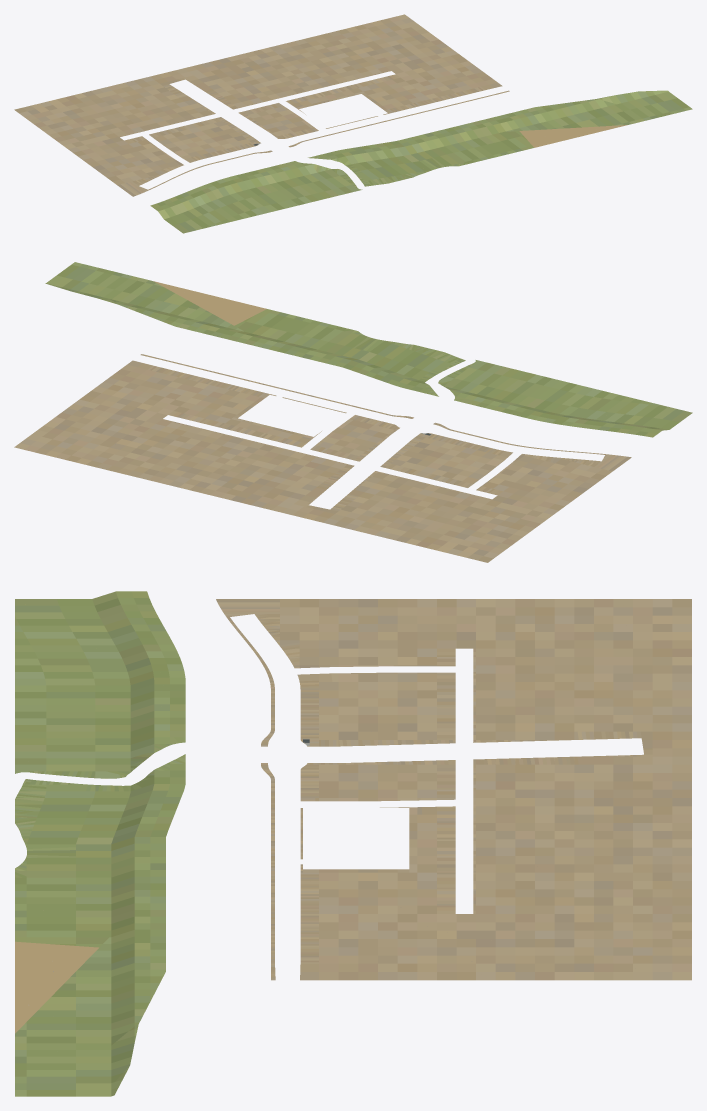
The model's file is ART_KyobashiLand.lod.glb.
3 renders of one model, top to bottom at view 1: azimuth 30°, elevation 25°; view 2: azimuth 150°, elevation 25°; view 3: azimuth 270°, elevation 25°, orthographic. The views are drawn at different scales.
Parts seen in each view (by area): view 1: ART_KyobashiLand; view 2: ART_KyobashiLand; view 3: ART_KyobashiLand.
Part boxes in pixels (box(x1,y1,x2,y2)): ART_KyobashiLand: box(14, 14, 692, 233); ART_KyobashiLand: box(14, 262, 692, 562); ART_KyobashiLand: box(15, 591, 691, 1096).
Size of the model in its own units: 600 by 4.21 by 345.
